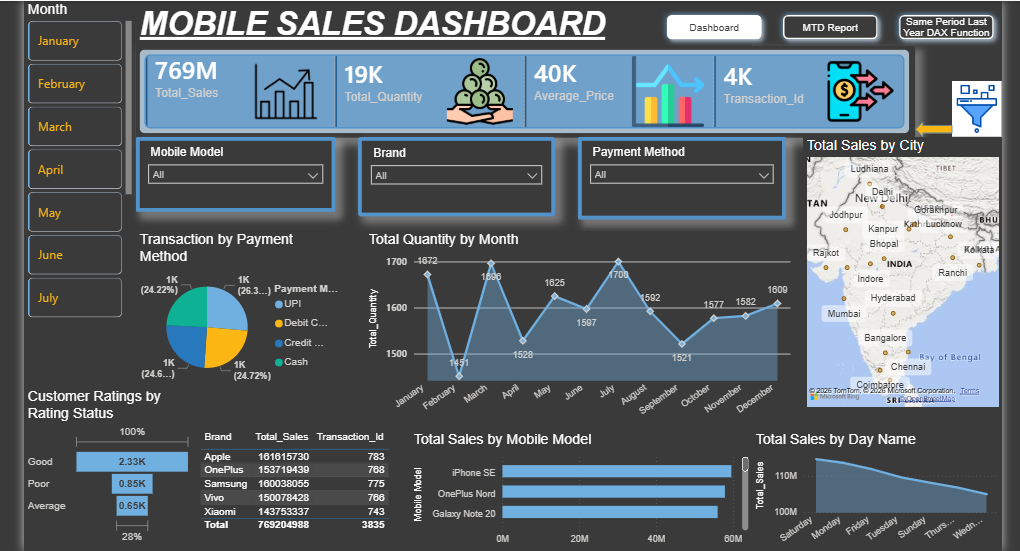

The page's visual inventory and layout, read from the dashboard file:
{"tool":"powerbi","page":{"name":"Dashboard","canvas":[1280,720],"ordinal":0},"visuals":[{"type":"advancedSlicerVisual","fields":{"Values":["Custom_Calendar.Date.Variation.Date Hierarchy.Month"]},"box":[0,0,146.9,423.4],"z":0},{"type":"cardVisual","fields":{"Data":["Mobile Sales Data.Total_Sales","Mobile Sales Data.Total_Quantity","Mobile Sales Data.Average_Price","Mobile Sales Data.Transaction_Id"]},"box":[146.9,59,1019.5,119.5],"z":1000},{"type":"slicer","fields":{"Values":["Mobile Sales Data.Mobile Model"]},"box":[146.9,178.6,260.6,97.9],"z":2000},{"type":"slicer","fields":{"Values":["Mobile Sales Data.Payment Method"]},"box":[725.8,178.6,272.2,108],"z":3000},{"type":"slicer","fields":{"Values":["Mobile Sales Data.Brand"]},"box":[437.8,178.6,257.8,103.7],"z":4000},{"type":"image","box":[1215.4,105.1,64.8,73.4],"z":5000},{"type":"shape","box":[1166.4,157,49,21.6],"z":6000},{"type":"textbox","box":[146.9,0,806.4,59],"z":7000},{"type":"map","fields":{"Category":["Mobile Sales Data.City"]},"box":[1019.5,178.6,260.6,358.6],"z":8000},{"type":"lineChart","title":"Total Quantity by Month","fields":{"Category":["Custom_Calendar.Date.Variation.Date Hierarchy.Month"],"Y":["Mobile Sales Data.Total_Quantity"]},"box":[446.4,301,561.6,262.1],"z":9000},{"type":"funnel","title":"Customer Ratings by Rating Status","fields":{"Y":["CountNonNull(Mobile Sales Data.Customer Ratings)"],"Category":["Mobile Sales Data.Rating Status"]},"box":[0,506.9,224.6,208.8],"z":10000},{"type":"pieChart","title":"Transaction by Payment Method","fields":{"Y":["Mobile Sales Data.Transaction_Id"],"Category":["Mobile Sales Data.Payment Method"]},"box":[146.9,301,277.9,210],"z":11000},{"type":"clusteredBarChart","title":"Total Sales by Mobile Model","fields":{"Y":["Mobile Sales Data.Total_Sales"],"Category":["Mobile Sales Data.Mobile Model"]},"box":[505.4,563,447.8,157],"z":12000},{"type":"areaChart","title":"Total Sales by Day Name","fields":{"Y":["Mobile Sales Data.Total_Sales"],"Category":["Custom_Calendar.Day Name"]},"box":[953.3,563,326.9,157],"z":13000},{"type":"tableEx","fields":{"Values":["Mobile Sales Data.Brand","Mobile Sales Data.Total_Sales","Mobile Sales Data.Transaction_Id"]},"box":[224.6,555.8,257.8,159.8],"z":14000},{"type":"pageNavigator","box":[832.3,8.6,447.8,50.4],"z":14001}]}

Visuals, with their boxes on the page's 1280x720 design canvas (x1, y1, x2, y2). These are canvas units, not pixel positions in the 1020x551 screenshot, which may show the page scaled, cropped or inside an application window:
advancedSlicerVisual - Custom_Calendar.Date.Variation.Date Hierarchy.Month: (0,0,147,423)
cardVisual - Mobile Sales Data.Total_Sales x Mobile Sales Data.Total_Quantity: (147,59,1166,178)
slicer - Mobile Sales Data.Mobile Model: (147,179,408,276)
slicer - Mobile Sales Data.Payment Method: (726,179,998,287)
slicer - Mobile Sales Data.Brand: (438,179,696,282)
image: (1215,105,1280,178)
shape: (1166,157,1215,179)
textbox: (147,0,953,59)
map - Mobile Sales Data.City: (1020,179,1280,537)
"Total Quantity by Month" lineChart: (446,301,1008,563)
"Customer Ratings by Rating Status" funnel: (0,507,225,716)
"Transaction by Payment Method" pieChart: (147,301,425,511)
"Total Sales by Mobile Model" clusteredBarChart: (505,563,953,720)
"Total Sales by Day Name" areaChart: (953,563,1280,720)
tableEx - Mobile Sales Data.Brand x Mobile Sales Data.Total_Sales: (225,556,482,716)
pageNavigator: (832,9,1280,59)
